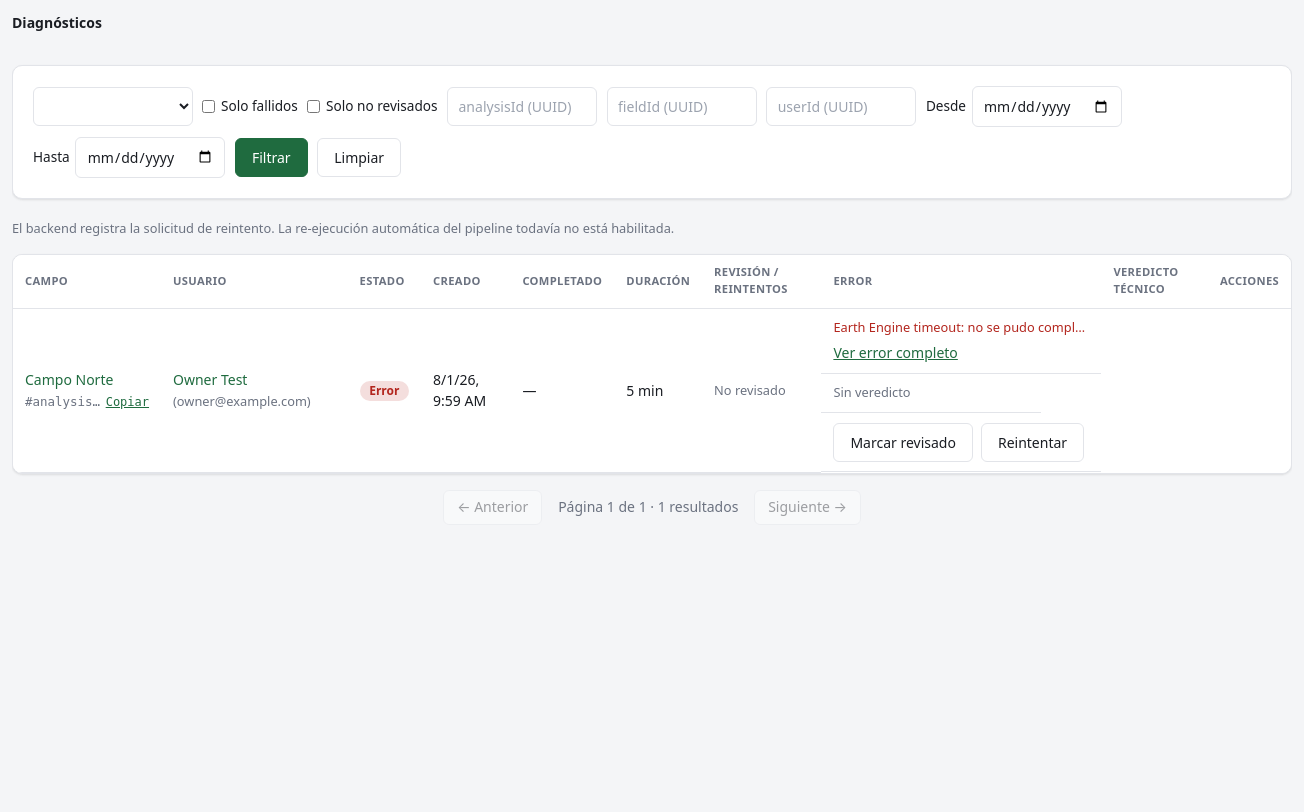
it: AnalysisComponent › shows a truncated error by default and reveals the full message on "Ver error completo"
Click the button "Ver error completo": (896, 353) [833, 342, 958, 363]
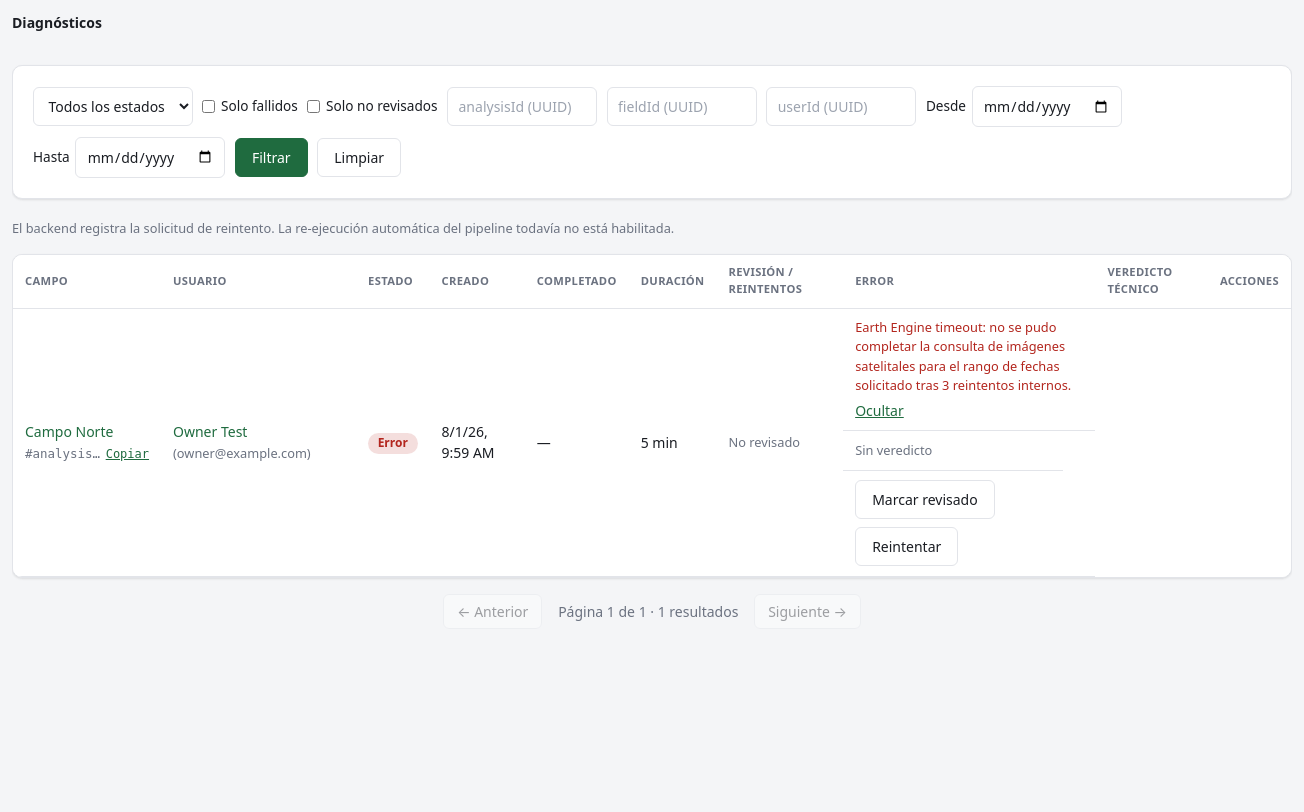
Expected: the button "Ocultar" is shown, [855, 400, 904, 421]
